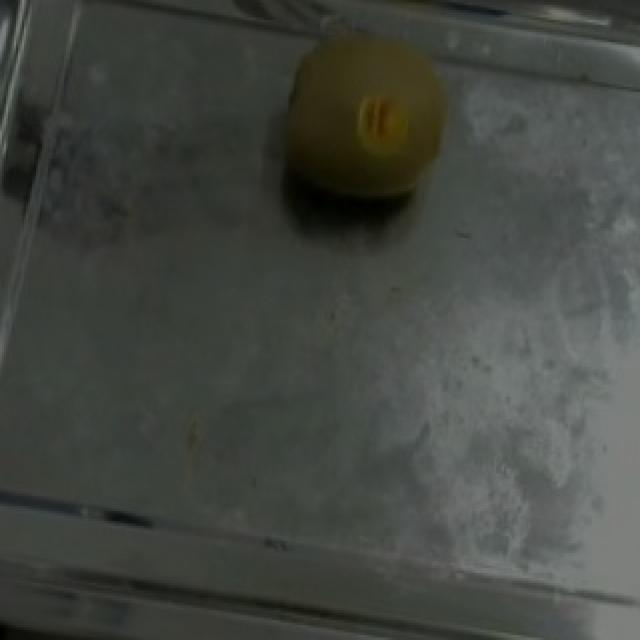Fruit: (252, 0, 480, 248)
